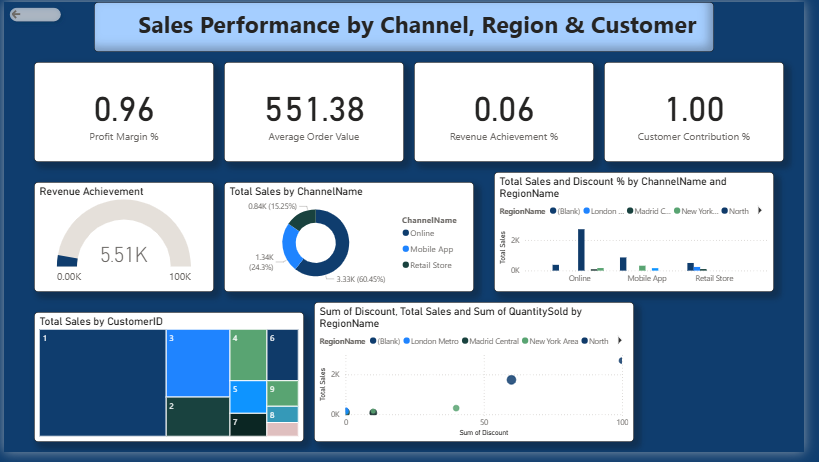

Layout of this report page (visuals, bound fields, positions):
{"tool":"powerbi","page":{"name":"Sales Performance by channel,Region And Customer","canvas":[1280,720],"ordinal":1},"visuals":[{"type":"card","fields":{"Values":["dim_channel.Profit Margin %"]},"box":[48,96,288,160],"z":0},{"type":"card","fields":{"Values":["dim_fact.Average Order Value"]},"box":[352,96,288,160],"z":1000},{"type":"card","fields":{"Values":["dim_channel.Revenue Achievement %"]},"box":[656,96,288,160],"z":2000},{"type":"card","fields":{"Values":["dim_channel.Customer Contribution %"]},"box":[960,96,288,160],"z":3000},{"type":"gauge","title":"Revenue Achievement","fields":{"Y":["dim_fact.Total Sales"],"MaxValue":["dim_fact.Revenue Target"]},"box":[48,288,288,176],"z":4000},{"type":"donutChart","fields":{"Category":["dim_channel.ChannelName"],"Y":["dim_fact.Total Sales"]},"box":[352,288,400,176],"z":5000},{"type":"treemap","fields":{"Group":["dim_customer.CustomerID"],"Values":["dim_fact.Total Sales"]},"box":[48,496,432,208],"z":6000},{"type":"scatterChart","fields":{"X":["Sum(dim_fact.Discount)"],"Y":["dim_fact.Total Sales"],"Series":["dim_region.RegionName"],"Size":["Sum(dim_fact.QuantitySold)"]},"box":[496,480,512,224],"z":7000},{"type":"clusteredColumnChart","fields":{"Category":["dim_channel.ChannelName"],"Y":["dim_fact.Total Sales"],"Series":["dim_region.RegionName"]},"box":[784,272,448,192],"z":8000},{"type":"textbox","box":[144,0,992,80],"z":9000},{"type":"actionButton","box":[0,0,100,40],"z":10000}]}

Visuals, with their boxes in screenshot pixels (x1, y1, x2, y2), scaled from the page's 1280x720 canvas onto the 819x462 screenshot:
card - dim_channel.Profit Margin %: [31, 62, 215, 164]
card - dim_fact.Average Order Value: [225, 62, 410, 164]
card - dim_channel.Revenue Achievement %: [420, 62, 604, 164]
card - dim_channel.Customer Contribution %: [614, 62, 799, 164]
"Revenue Achievement" gauge: [31, 185, 215, 298]
donutChart - dim_channel.ChannelName x dim_fact.Total Sales: [225, 185, 481, 298]
treemap - dim_customer.CustomerID x dim_fact.Total Sales: [31, 318, 307, 452]
scatterChart - Sum(dim_fact.Discount) x dim_fact.Total Sales: [317, 308, 645, 452]
clusteredColumnChart - dim_channel.ChannelName x dim_fact.Total Sales: [502, 175, 788, 298]
textbox: [92, 0, 727, 51]
actionButton: [0, 0, 64, 26]
